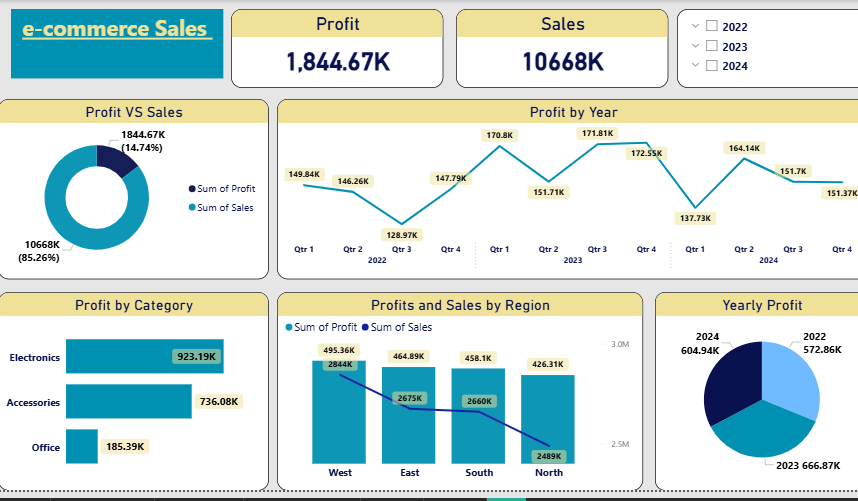

The dashboard page shown, as its layout file describes it:
{"tool":"powerbi","page":{"name":"Dashboard","canvas":[1280,720],"ordinal":0},"visuals":[{"type":"barChart","title":"Profit by Category","fields":{"Category":["ecommerce_sales_data (2).Category"],"Y":["Sum(ecommerce_sales_data (2).Profit)"]},"box":[0,428.3,398.1,292.3],"z":0},{"type":"pieChart","title":"Yearly Profit","fields":{"Category":["ecommerce_sales_data (2).Order Date.Variation.Date Hierarchy.Year"],"Y":["Sum(ecommerce_sales_data (2).Profit)"]},"box":[965.9,428.3,314.1,292.3],"z":1000},{"type":"lineClusteredColumnComboChart","title":"Profits and Sales by Region","fields":{"Category":["ecommerce_sales_data (2).Region"],"Y2":["Sum(ecommerce_sales_data (2).Sales)"],"Y":["Sum(ecommerce_sales_data (2).Profit)"]},"box":[409.9,428.3,537.5,292.3],"z":2000},{"type":"lineChart","title":"Profit by Year","fields":{"Category":["ecommerce_sales_data (2).Order Date.Variation.Date Hierarchy.Year","ecommerce_sales_data (2).Order Date.Variation.Date Hierarchy.Quarter","ecommerce_sales_data (2).Order Date.Variation.Date Hierarchy.Month","ecommerce_sales_data (2).Order Date.Variation.Date Hierarchy.Day"],"Y":["Sum(ecommerce_sales_data (2).Profit)"]},"box":[409.9,146.1,870.1,265.4],"z":4000},{"type":"card","title":"Profit","fields":{"Values":["Sum(ecommerce_sales_data (2).Profit)"]},"box":[342.7,13.4,312.4,115.9],"z":4001},{"type":"donutChart","title":"Profit VS Sales","fields":{"Y":["Sum(ecommerce_sales_data (2).Profit)","Sum(ecommerce_sales_data (2).Sales)"]},"box":[0,146.1,398.1,265.4],"z":4002},{"type":"card","title":"Sales","fields":{"Values":["Sum(ecommerce_sales_data (2).Sales)"]},"box":[673.6,13.4,312.4,115.9],"z":4003},{"type":"slicer","title":"Profit","fields":{"Values":["ecommerce_sales_data (2).Order Date.Variation.Date Hierarchy.Year","ecommerce_sales_data (2).Order Date.Variation.Date Hierarchy.Quarter","ecommerce_sales_data (2).Order Date.Variation.Date Hierarchy.Month","ecommerce_sales_data (2).Order Date.Variation.Date Hierarchy.Day"]},"box":[997.8,13.4,282.2,115.9],"z":4004},{"type":"textbox","box":[18.5,13.4,312.4,102.5],"z":4005}]}

Visuals, with their boxes on the page's 1280x720 design canvas (x1, y1, x2, y2). These are canvas units, not pixel positions in the 858x501 screenshot, which may show the page scaled, cropped or inside an application window:
"Profit by Category" barChart: x1=0 y1=428 x2=398 y2=721
"Yearly Profit" pieChart: x1=966 y1=428 x2=1280 y2=721
"Profits and Sales by Region" lineClusteredColumnComboChart: x1=410 y1=428 x2=947 y2=721
"Profit by Year" lineChart: x1=410 y1=146 x2=1280 y2=412
"Profit" card: x1=343 y1=13 x2=655 y2=129
"Profit VS Sales" donutChart: x1=0 y1=146 x2=398 y2=412
"Sales" card: x1=674 y1=13 x2=986 y2=129
"Profit" slicer: x1=998 y1=13 x2=1280 y2=129
textbox: x1=18 y1=13 x2=331 y2=116
